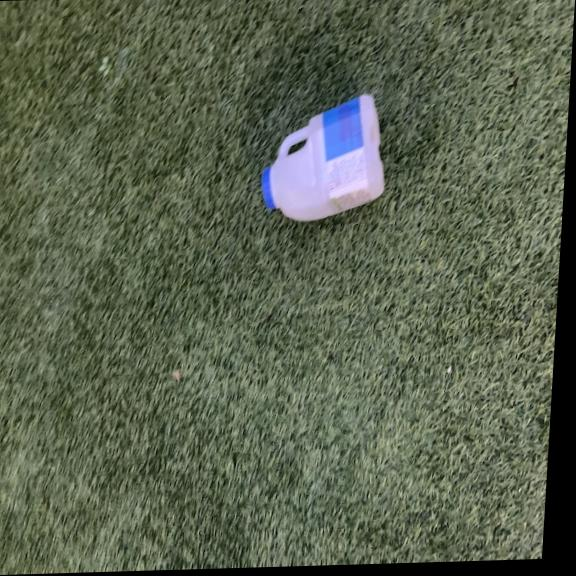Plastik: (258, 89, 396, 229)
